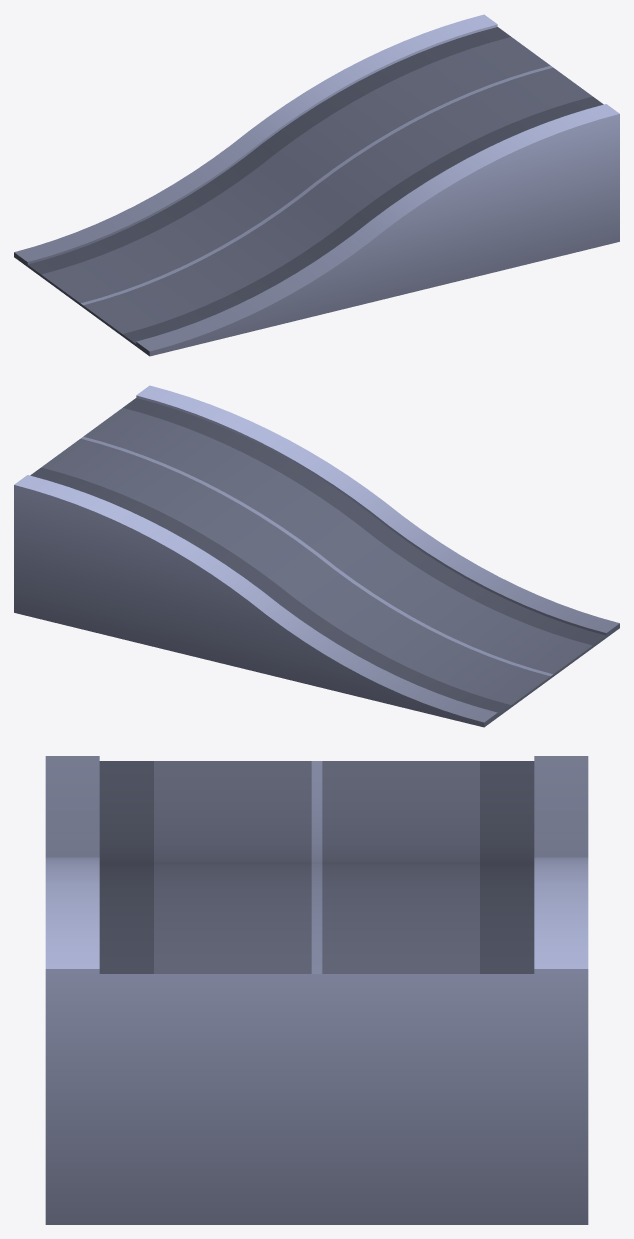
The model's file is road-slant-curve.glb.
3 views of the same model, one above another, from view 1: azimuth 30°, elevation 25°; view 2: azimuth 150°, elevation 25°; view 3: azimuth 270°, elevation 25° (orthographic). The views are drawn at different scales.
Parts seen in each view (by area): view 1: road-slant-curve; view 2: road-slant-curve; view 3: road-slant-curve.
Part boxes in pixels (x1,y1,x2,y2): road-slant-curve: [14, 14, 619, 356]; road-slant-curve: [14, 385, 619, 727]; road-slant-curve: [45, 756, 588, 1224].
Size of the model in its own units: 2 by 0.52 by 1.
1 material, 1 textured.
